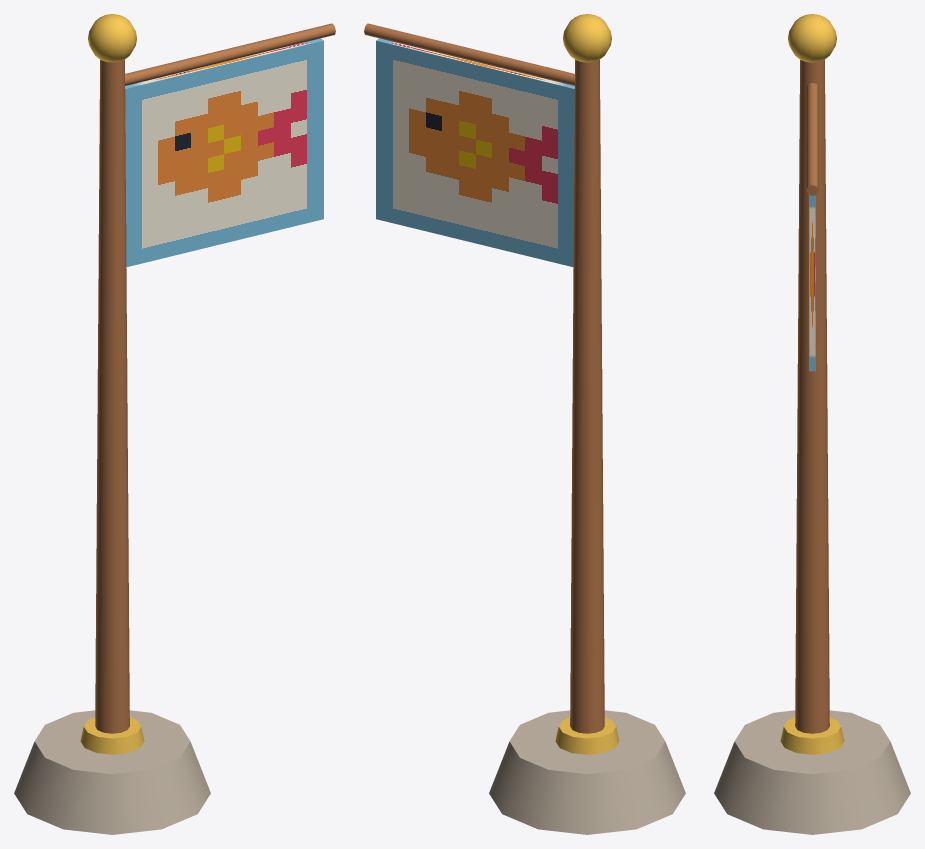
The picture shows the model from 3 angles, left to right: view 1: azimuth 30°, elevation 25°; view 2: azimuth 150°, elevation 25°; view 3: azimuth 270°, elevation 25°; orthographic projection.
Visible parts, largest first — view 1: FlagBannerCloth, __optimized_merged_material_2, __optimized_merged_material_0, __optimized_merged_material_1, FlagCrossArm; view 2: FlagBannerCloth, __optimized_merged_material_2, __optimized_merged_material_0, __optimized_merged_material_1, FlagCrossArm; view 3: __optimized_merged_material_2, __optimized_merged_material_0, __optimized_merged_material_1, FlagCrossArm, FlagBannerCloth.
Boxes of the visible parts, x1,y1,x2,y2 form: FlagBannerCloth: (125, 38, 323, 267); __optimized_merged_material_2: (95, 59, 129, 733); __optimized_merged_material_0: (14, 710, 210, 834); __optimized_merged_material_1: (80, 14, 144, 754); FlagCrossArm: (125, 23, 335, 85); FlagBannerCloth: (376, 38, 574, 267); __optimized_merged_material_2: (570, 59, 604, 733); __optimized_merged_material_0: (489, 710, 685, 834); __optimized_merged_material_1: (555, 14, 619, 754); FlagCrossArm: (364, 23, 574, 85); __optimized_merged_material_2: (795, 59, 829, 733); __optimized_merged_material_0: (714, 710, 910, 834); __optimized_merged_material_1: (780, 14, 844, 754); FlagCrossArm: (806, 83, 818, 195); FlagBannerCloth: (809, 195, 815, 371).
Bounding box in the file's own units: 1.72 × 4.18 × 0.96.
Materials: 4 (1 with a texture image).
